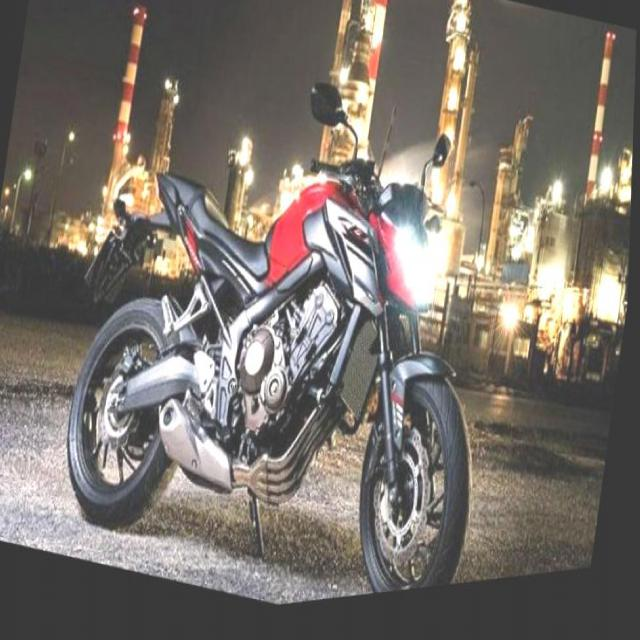CB650R: (54, 75, 522, 632)
